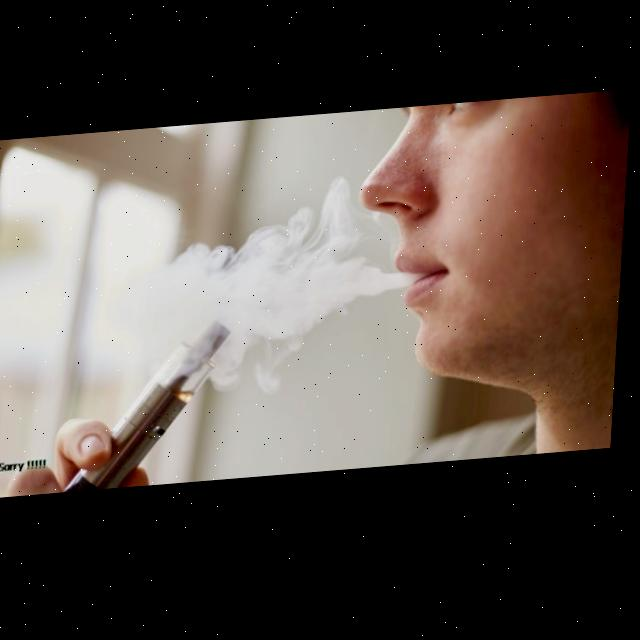vape: (66, 320, 239, 492)
